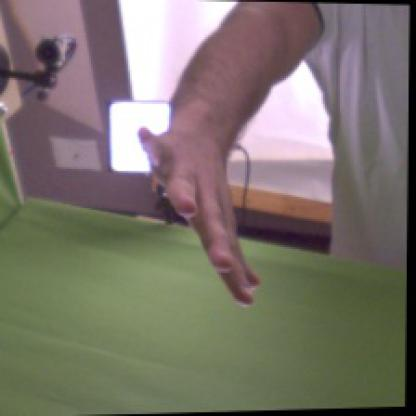Hand: (135, 117, 263, 306)
